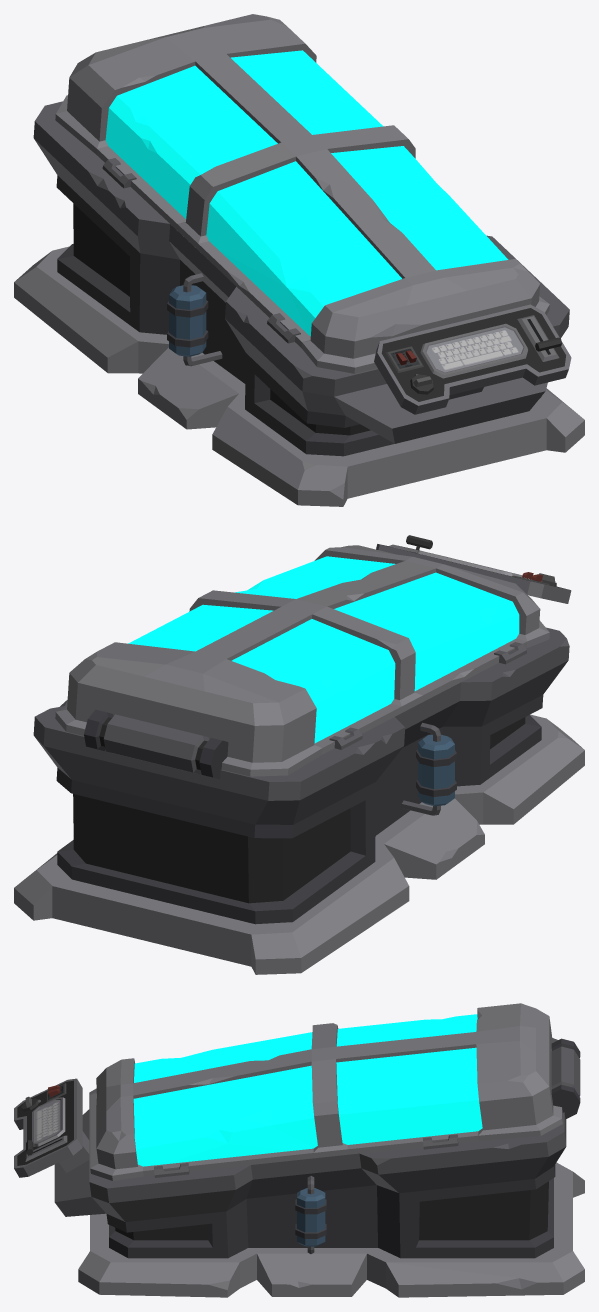
The model's file is SM_Prop_CryoBed_01.glb.
The picture shows the model from 3 angles, top to bottom: view 1: azimuth 30°, elevation 25°; view 2: azimuth 150°, elevation 25°; view 3: azimuth 270°, elevation 25°; orthographic projection. The views are drawn at different scales.
Parts seen in each view (by area): view 1: SM_Prop_CryoBed_01, SM_Prop_CryoBed_Lid_Glass_01, SM_Prop_CryoBed_Lid_01; view 2: SM_Prop_CryoBed_01, SM_Prop_CryoBed_Lid_01, SM_Prop_CryoBed_Lid_Glass_01; view 3: SM_Prop_CryoBed_01, SM_Prop_CryoBed_Lid_Glass_01, SM_Prop_CryoBed_Lid_01.
Part boxes in pixels (x1,y1,x2,y2): SM_Prop_CryoBed_01: [14, 101, 584, 506]; SM_Prop_CryoBed_Lid_Glass_01: [105, 50, 508, 336]; SM_Prop_CryoBed_Lid_01: [55, 14, 549, 373]; SM_Prop_CryoBed_01: [14, 535, 584, 974]; SM_Prop_CryoBed_Lid_01: [55, 545, 549, 779]; SM_Prop_CryoBed_Lid_Glass_01: [128, 556, 519, 743]; SM_Prop_CryoBed_01: [14, 1038, 584, 1297]; SM_Prop_CryoBed_Lid_Glass_01: [133, 1014, 482, 1166]; SM_Prop_CryoBed_Lid_01: [90, 1003, 580, 1180].
Size of the model in its own units: 1.73 by 1.37 by 3.47.
2 materials, 1 textured.
